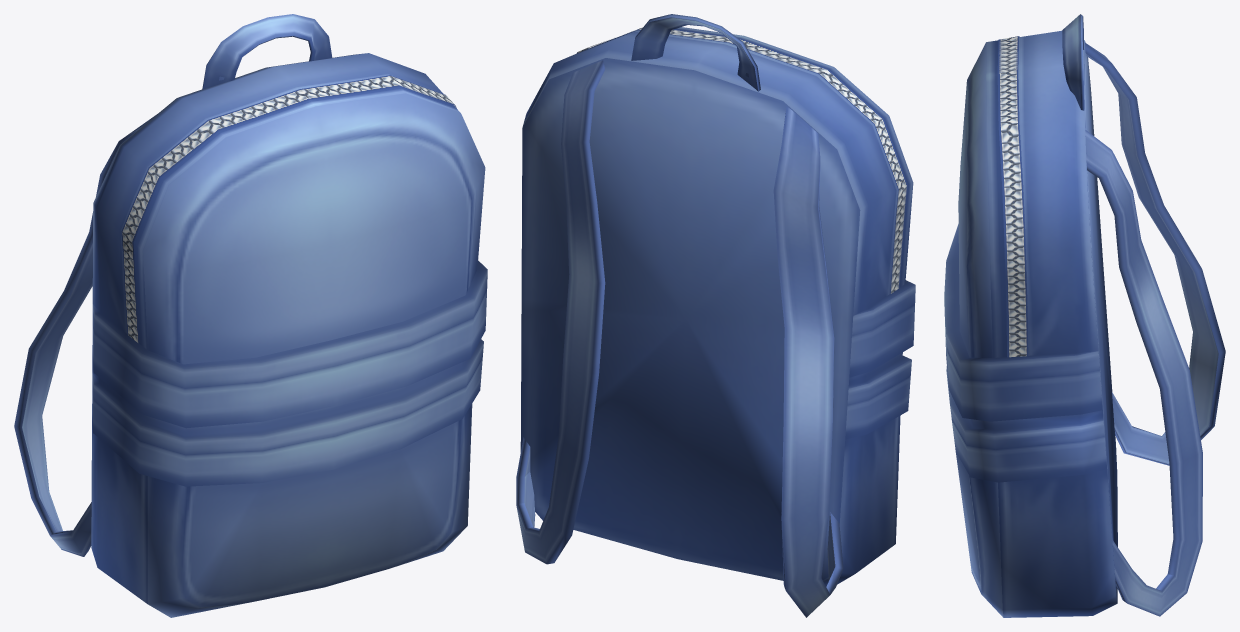
File: MaLuBian_01_beibao_01.FBX
3 renders of one model, left to right at view 1: azimuth 30°, elevation 25°; view 2: azimuth 150°, elevation 25°; view 3: azimuth 270°, elevation 25°, orthographic.
Parts seen in each view (by area): view 1: MaLuBian_01_beibao_01; view 2: MaLuBian_01_beibao_01; view 3: MaLuBian_01_beibao_01.
Boxes of the visible parts, x1=… form: MaLuBian_01_beibao_01: x1=14, y1=14, x2=487, y2=617; MaLuBian_01_beibao_01: x1=516, y1=14, x2=915, y2=617; MaLuBian_01_beibao_01: x1=944, y1=14, x2=1225, y2=617.
Bounding box in the file's own units: 105 × 148 × 70.51.
